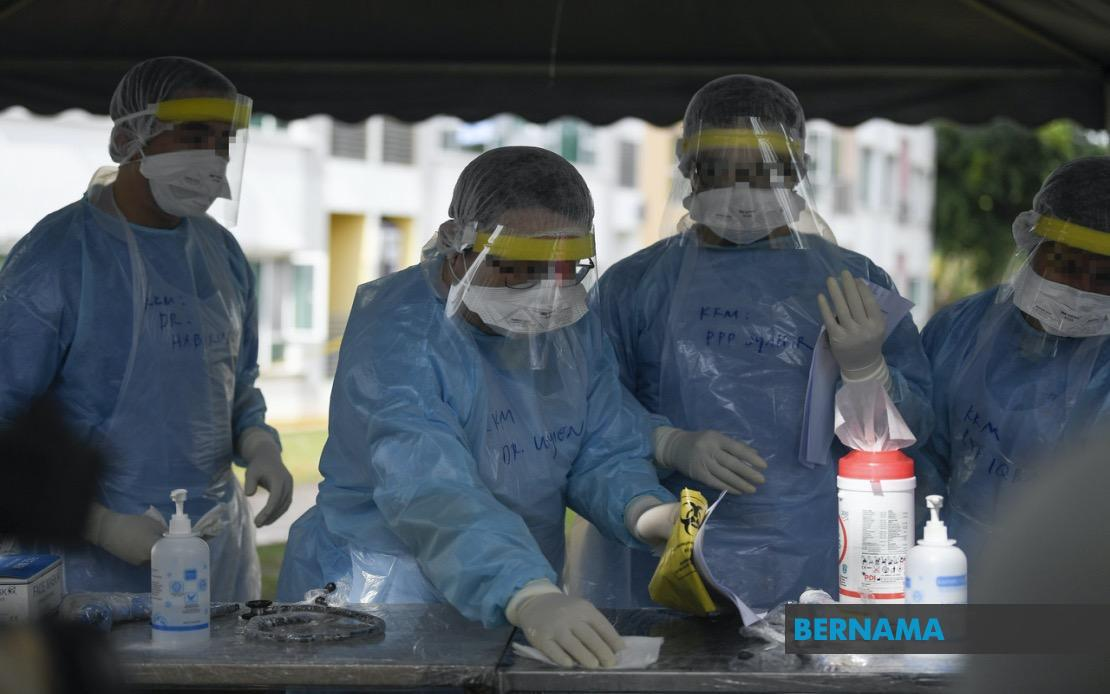Coverall: (603, 231, 916, 606), (290, 284, 603, 602), (1, 209, 253, 554), (913, 291, 1110, 571)
Gloves: (508, 576, 629, 678), (814, 265, 898, 391), (650, 416, 776, 498), (229, 424, 302, 526), (85, 500, 168, 569), (618, 491, 708, 552)
with_mask: (471, 239, 591, 341), (146, 123, 240, 223), (1022, 246, 1110, 339)
